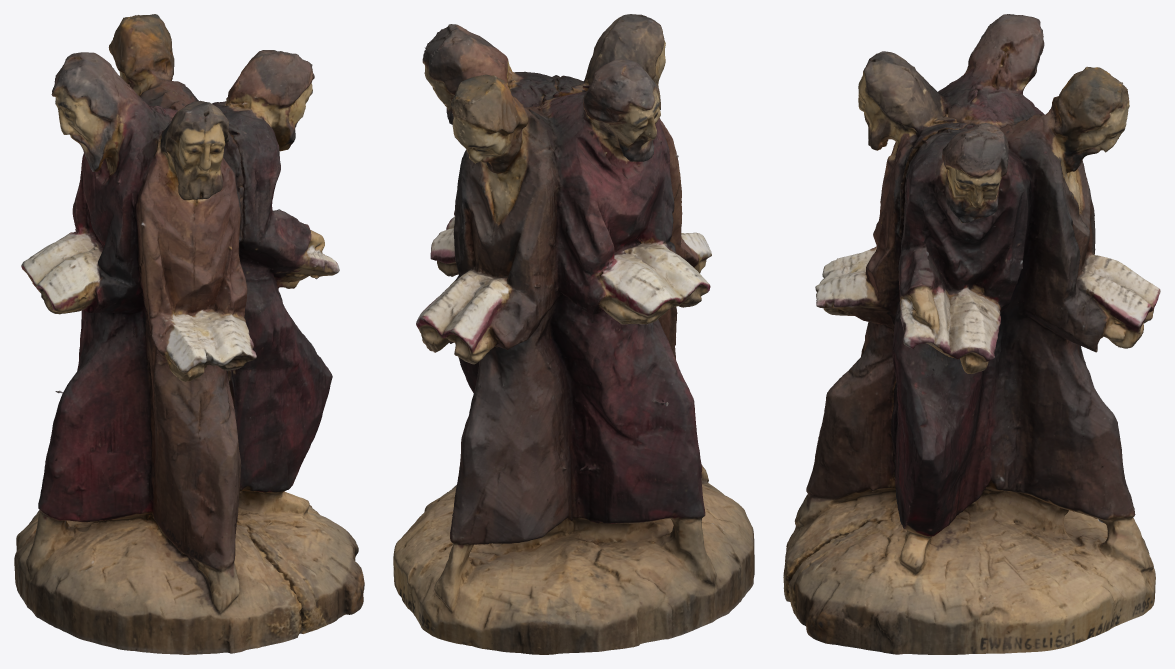
File: MPLW_E_1195_lowpoly.glb
The picture shows the model from 3 angles, left to right: view 1: azimuth 30°, elevation 25°; view 2: azimuth 150°, elevation 25°; view 3: azimuth 270°, elevation 25°; orthographic projection. The views are drawn at different scales.
Parts seen in each view (by area): view 1: MPLW_E_1195_lowpoly; view 2: MPLW_E_1195_lowpoly; view 3: MPLW_E_1195_lowpoly.
Part boxes in pixels (<box>): MPLW_E_1195_lowpoly: <box>14,14,364,654</box>; MPLW_E_1195_lowpoly: <box>393,14,754,654</box>; MPLW_E_1195_lowpoly: <box>783,14,1160,654</box>.
Bounding box in the file's own units: 0.1797 × 0.3161 × 0.2018.
Materials: 1 (1 with a texture image).
